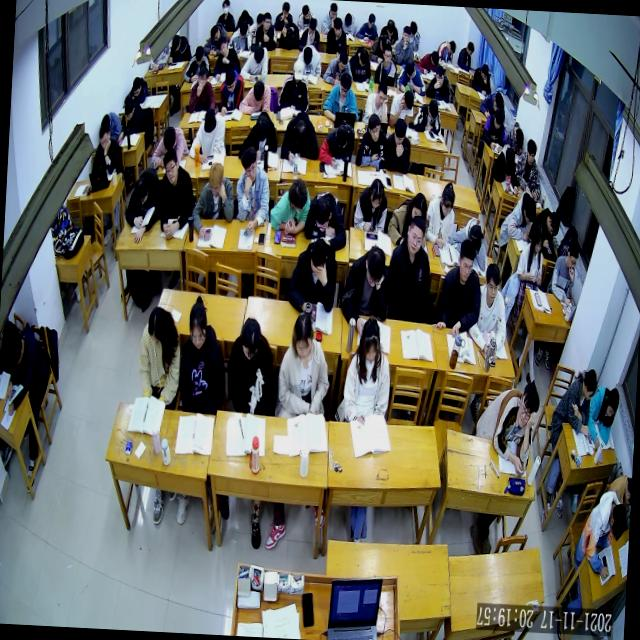bow: (474, 378, 540, 478), (123, 164, 163, 246), (302, 188, 350, 252), (270, 173, 312, 235), (386, 190, 428, 248), (280, 110, 320, 166), (238, 110, 279, 164), (451, 216, 490, 269), (150, 124, 190, 168), (507, 188, 538, 241), (490, 142, 520, 194), (238, 78, 273, 118), (396, 57, 428, 98), (240, 44, 270, 84), (204, 20, 228, 58), (166, 34, 192, 68), (504, 120, 526, 156), (124, 75, 150, 105), (279, 19, 301, 53), (480, 90, 504, 118), (416, 50, 441, 76)
down: (290, 314, 314, 360), (239, 314, 262, 359), (188, 300, 208, 350), (364, 243, 386, 288), (361, 316, 381, 364), (146, 302, 166, 344), (608, 503, 628, 542), (4, 329, 24, 366), (308, 240, 326, 279), (314, 194, 333, 230), (208, 160, 225, 197), (409, 191, 428, 223), (582, 368, 598, 402), (134, 175, 150, 208), (369, 174, 385, 207), (604, 386, 620, 419), (440, 186, 456, 218), (254, 114, 271, 142), (292, 116, 308, 144), (393, 114, 408, 143), (335, 119, 350, 148), (224, 66, 238, 96), (468, 220, 482, 250), (530, 224, 544, 254), (523, 196, 538, 224), (162, 125, 177, 152), (251, 78, 266, 103), (401, 88, 415, 114), (338, 72, 352, 98), (546, 211, 560, 237), (98, 123, 111, 150), (568, 242, 580, 271), (376, 82, 389, 108), (124, 96, 136, 123), (292, 59, 304, 85), (194, 44, 206, 68), (505, 146, 517, 170), (494, 105, 506, 129), (130, 76, 143, 98), (512, 126, 524, 148), (210, 24, 222, 45), (337, 50, 349, 71), (358, 48, 370, 69), (427, 95, 439, 116), (492, 90, 503, 112), (252, 46, 264, 66), (306, 17, 318, 37), (302, 46, 314, 66), (404, 55, 416, 75), (238, 20, 249, 40), (332, 17, 343, 37), (171, 34, 181, 54), (386, 20, 396, 40), (480, 62, 490, 82), (284, 25, 294, 44), (329, 2, 338, 21), (430, 49, 440, 66), (367, 13, 376, 31), (301, 5, 311, 21), (447, 40, 457, 56), (343, 12, 352, 28), (466, 41, 475, 57), (282, 1, 290, 18)
lookup: (516, 381, 541, 431), (456, 238, 476, 281), (406, 212, 426, 254), (240, 144, 258, 182), (484, 263, 500, 304), (162, 146, 180, 182), (366, 112, 382, 142), (526, 138, 537, 166), (216, 35, 229, 58), (197, 66, 209, 90), (434, 65, 446, 88), (261, 11, 273, 32), (382, 44, 393, 64), (402, 26, 412, 46), (221, 0, 231, 14)
sit: (276, 309, 332, 417), (178, 301, 230, 414), (340, 314, 392, 424), (225, 316, 281, 418), (386, 212, 434, 322), (434, 235, 484, 337), (135, 303, 183, 408), (338, 241, 390, 335), (286, 235, 340, 315), (2, 330, 52, 415), (583, 487, 628, 581), (466, 262, 509, 354), (156, 149, 196, 241), (232, 146, 272, 238), (190, 158, 235, 238), (550, 365, 598, 437), (188, 104, 228, 164), (587, 384, 620, 452), (322, 70, 362, 124), (425, 182, 457, 249), (550, 238, 581, 306), (516, 220, 546, 290), (354, 112, 390, 170), (352, 177, 388, 235), (278, 55, 312, 114), (91, 121, 126, 178), (512, 138, 544, 200), (318, 120, 357, 170), (383, 114, 414, 174), (188, 59, 218, 112), (218, 64, 246, 117), (116, 98, 146, 144), (212, 36, 242, 82), (362, 80, 390, 126), (182, 43, 212, 85), (322, 49, 354, 87), (252, 10, 280, 53), (534, 204, 560, 250), (482, 106, 508, 152), (412, 95, 443, 132), (372, 41, 398, 84), (425, 64, 452, 104), (388, 89, 415, 129), (393, 24, 416, 66), (296, 42, 323, 77), (227, 18, 253, 54), (348, 46, 372, 85), (297, 16, 321, 53), (326, 16, 348, 56), (472, 61, 494, 98), (355, 12, 380, 44), (215, 0, 237, 32), (456, 41, 476, 74), (379, 17, 400, 47), (274, 1, 294, 32), (296, 4, 316, 34), (321, 1, 338, 36), (436, 39, 456, 68), (342, 10, 358, 36), (204, 103, 218, 132)
